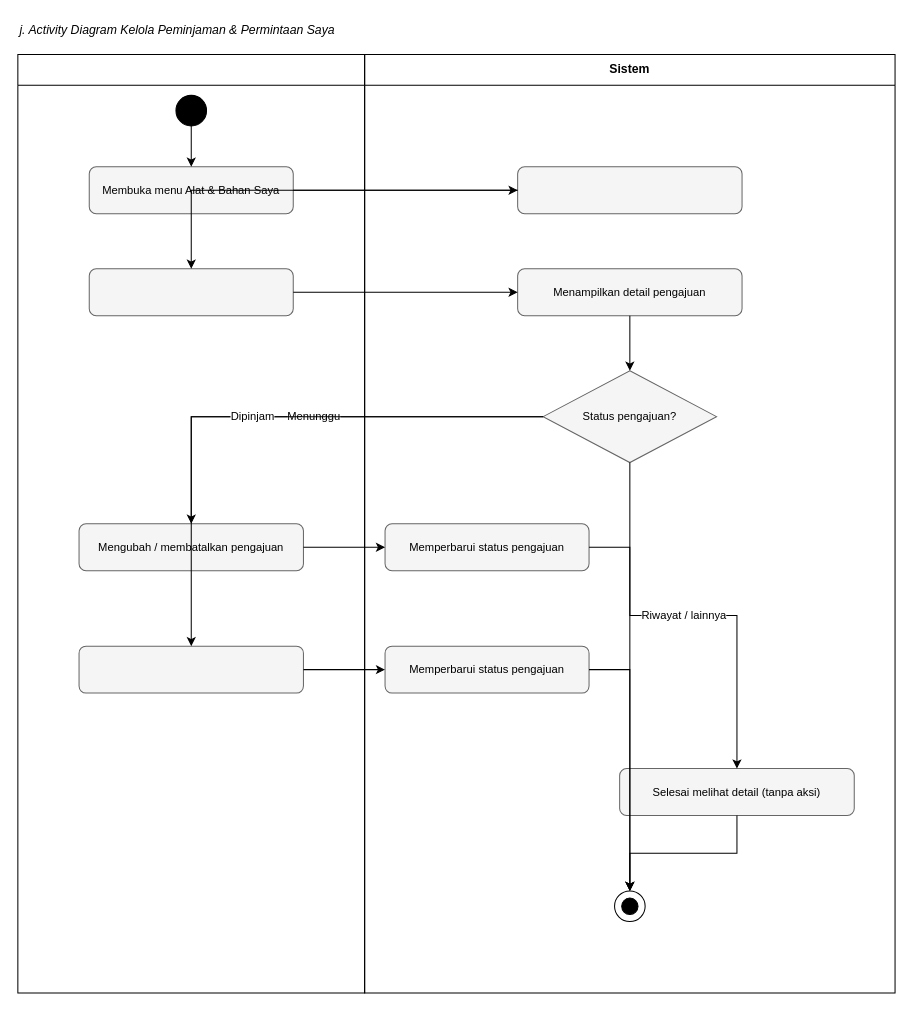
Some shapes in this 913 by 1011 pixel diagram are drawn without their labels. Each missing label, with the box of its shape:
Memilih salah satu data: (88, 268, 293, 316)
Menampilkan daftar aktif & riwayat: (517, 166, 742, 214)
Mengajukan pengembalian alat: (78, 645, 303, 693)
Siswa: (17, 54, 365, 993)
